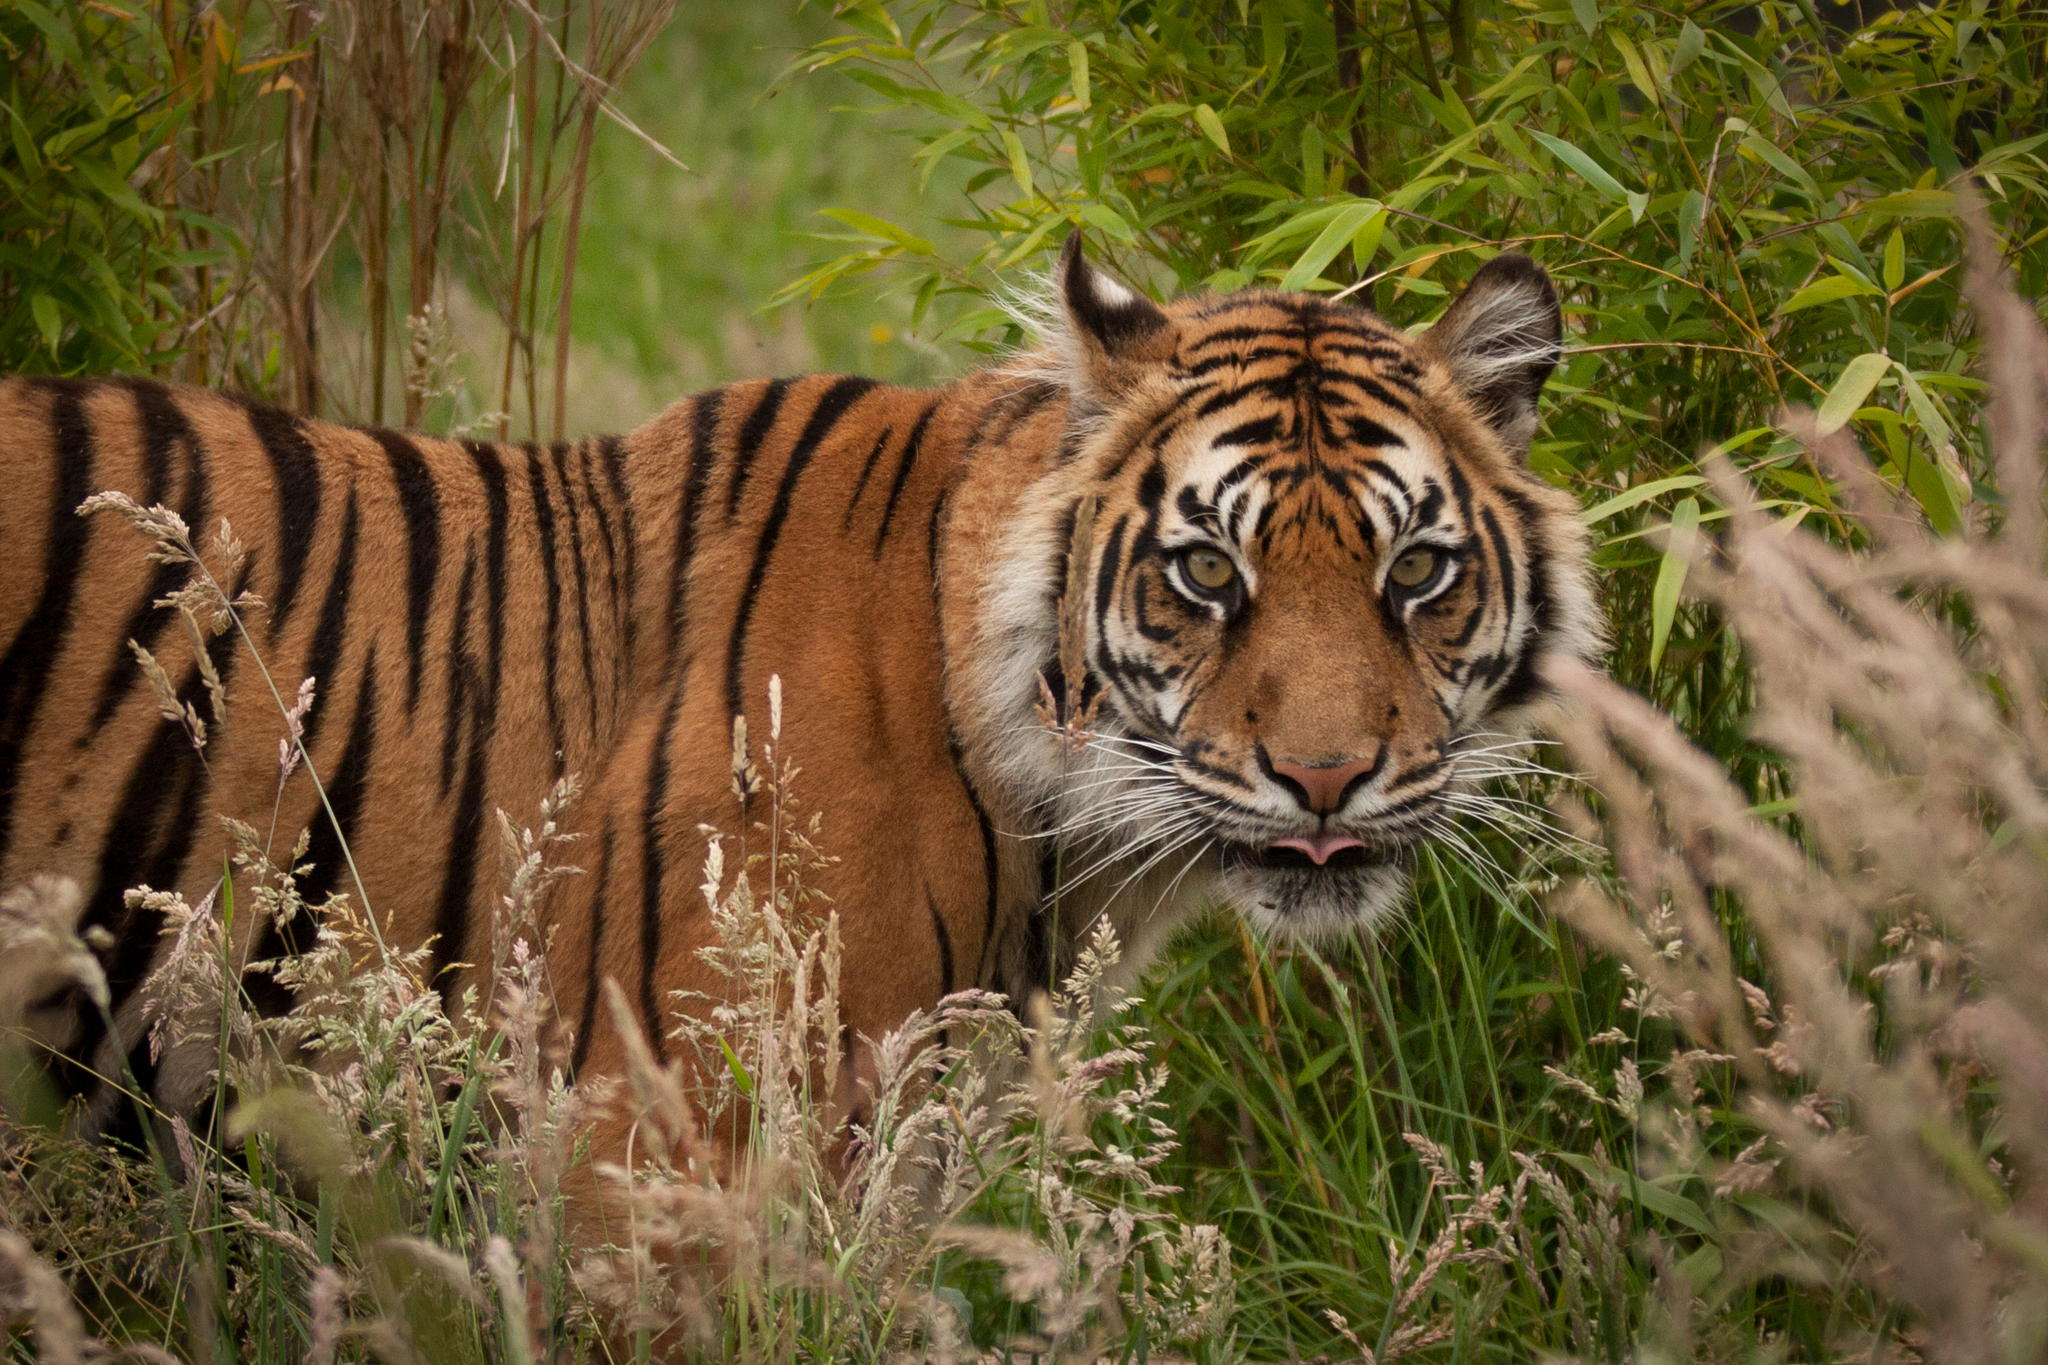tiger: (18, 251, 1625, 1114)
